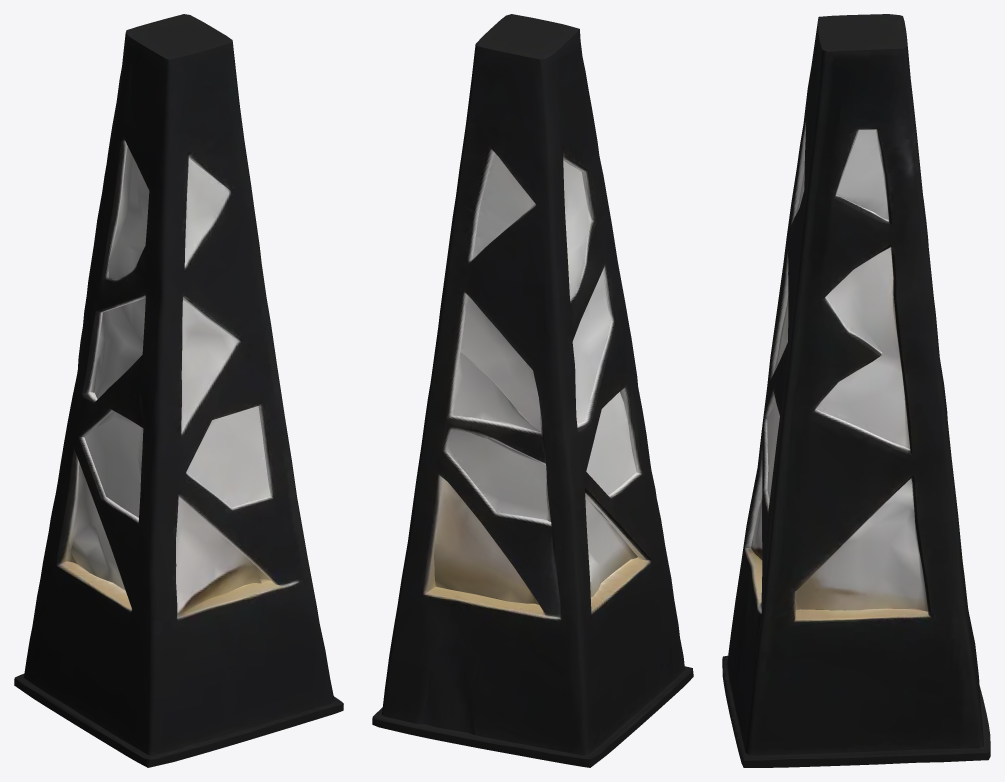
The model's file is m2CorePylon.glb.
3 views of the same model, side by side, from view 1: azimuth 30°, elevation 25°; view 2: azimuth 150°, elevation 25°; view 3: azimuth 270°, elevation 25° (orthographic). The views are drawn at different scales.
Parts seen in each view (by area): view 1: model; view 2: model; view 3: model.
Part boxes in pixels (box(x1,y1,x2,y2)): model: box(14, 14, 343, 767); model: box(372, 14, 693, 767); model: box(722, 14, 990, 767).
Size of the model in its own units: 0.6672 by 1.89 by 0.6768.
1 material, 1 textured.
